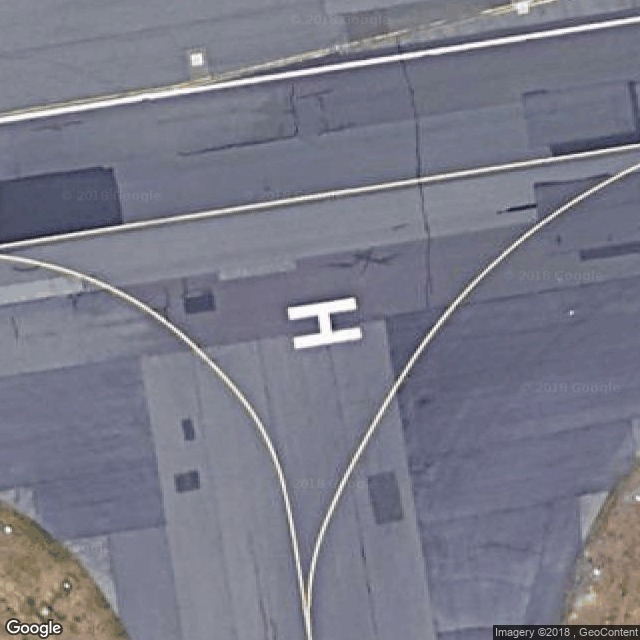heliport: (276, 287, 369, 356)
